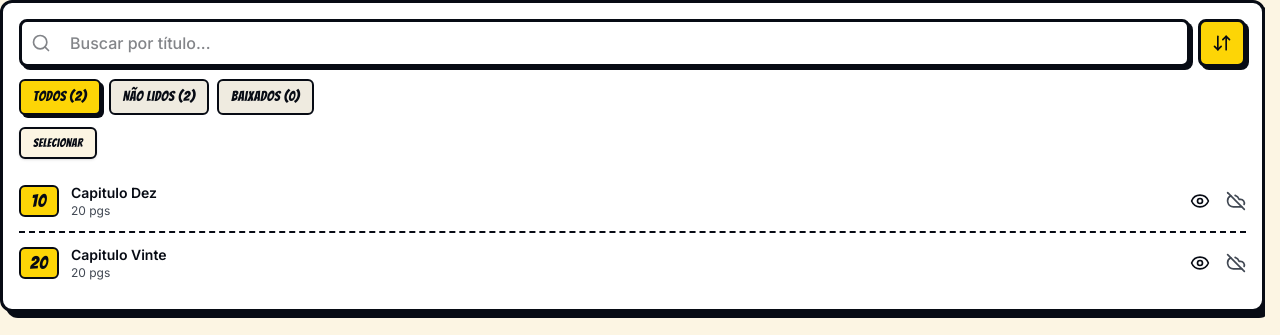
Test: TabCapitulos › deve filtrar capitulos por numero na barra de pesquisa
This screenshot has width=1280, height=335.
Type "10" into the field with placeholder "Buscar por título..." at (604, 43), box 19,19 -> 1190,67
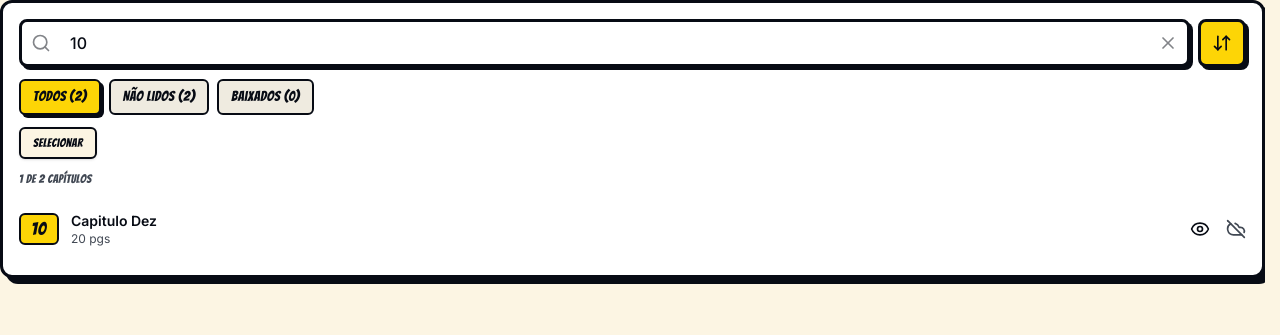
Expected: the text "1 de 2 capítulos" is shown, 19,172 -> 92,185
